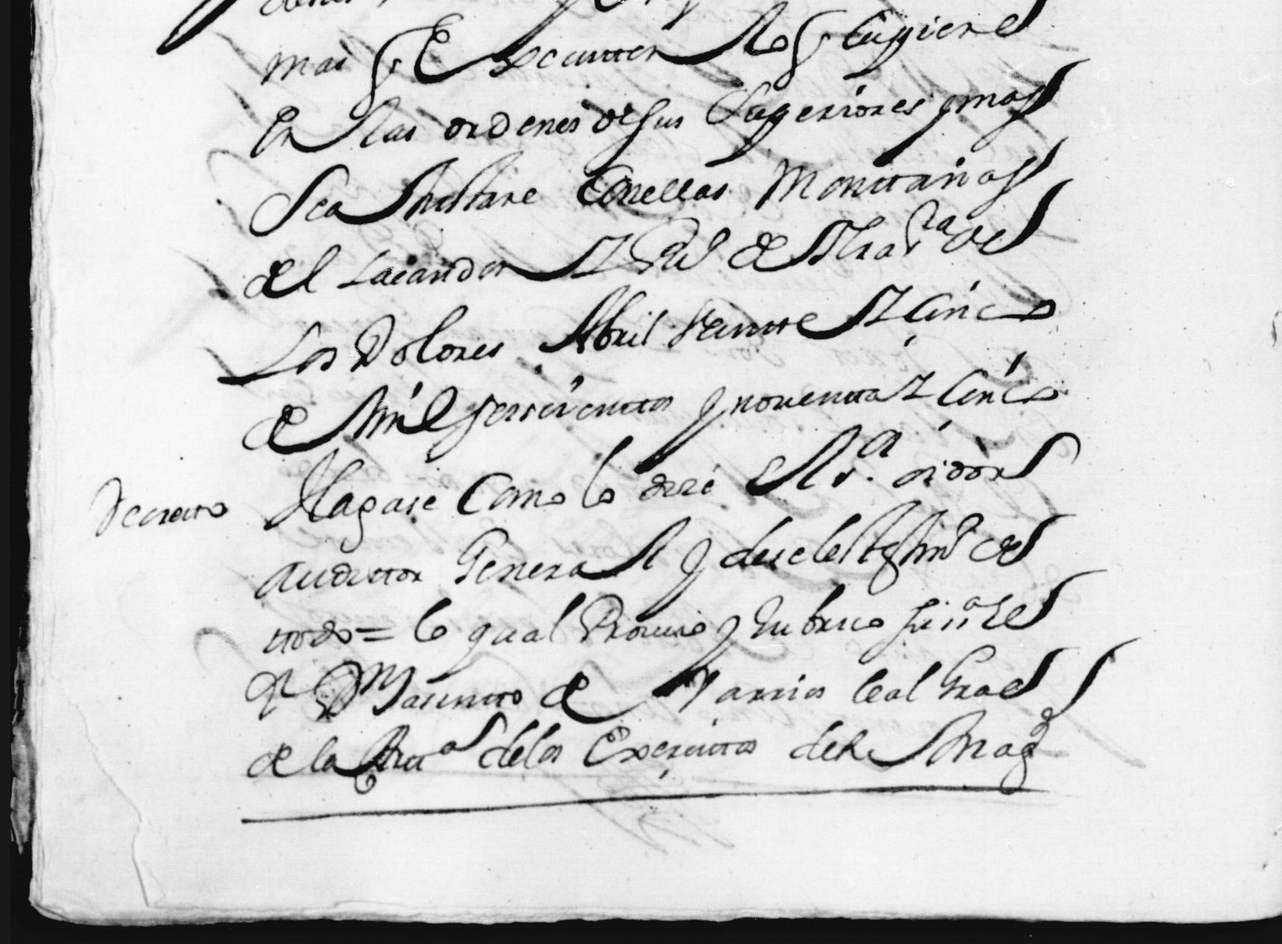lacandon: (336, 236, 607, 288)
